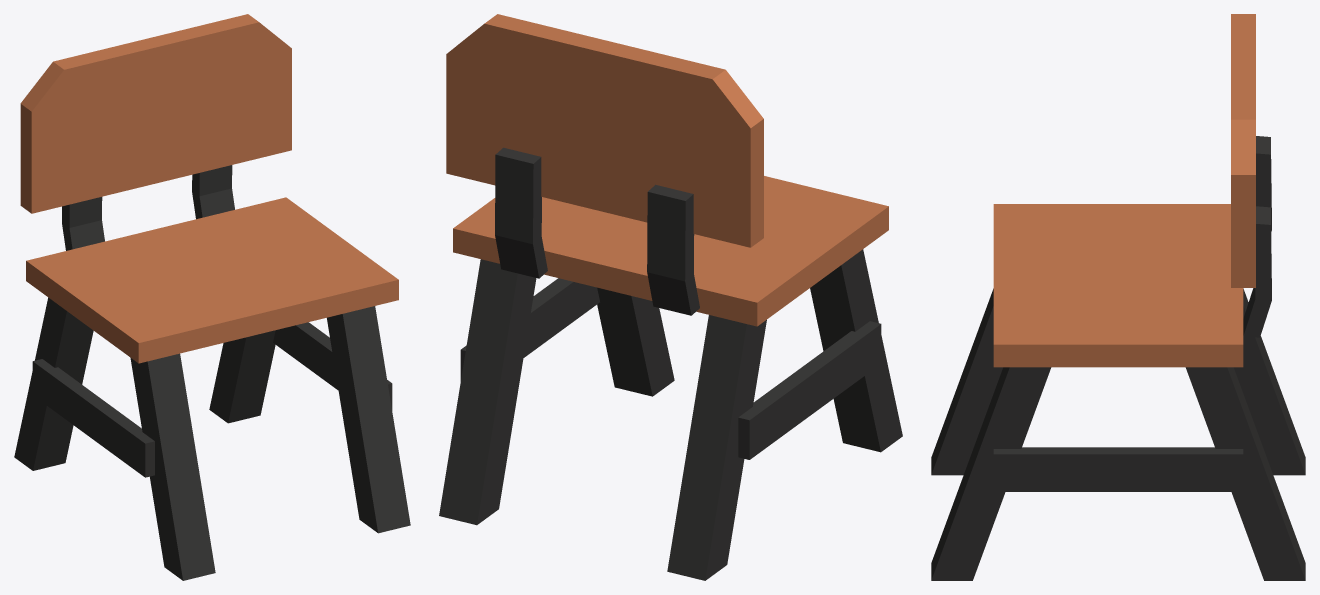
Rendered from chair.gltf.
3 renders of one model, left to right at view 1: azimuth 30°, elevation 25°; view 2: azimuth 150°, elevation 25°; view 3: azimuth 270°, elevation 25°, orthographic. The views are drawn at different scales.
Parts seen in each view (by area): view 1: cuboid (×9); view 2: cuboid (×9); view 3: cuboid (×9).
Part boxes in pixels (x1,y1,x2,y2): cuboid (×9): [14, 14, 410, 580]; cuboid (×9): [439, 14, 902, 580]; cuboid (×9): [931, 14, 1305, 580].
Bounding box in the file's own units: 0.25 × 0.375 × 0.2812.
Materials: 2 (2 with a texture image).
